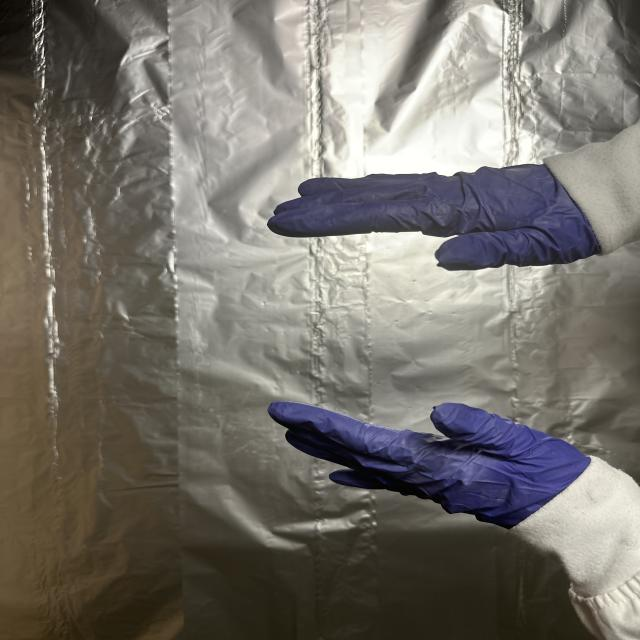gloves_contaminated: (268, 402, 588, 528), (268, 165, 600, 270)
